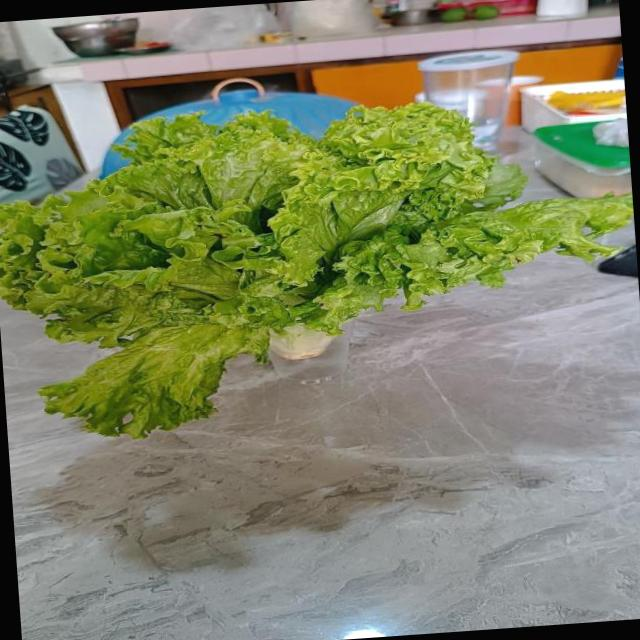Lettuce-Ready-to-Harvest: (0, 104, 633, 436)
